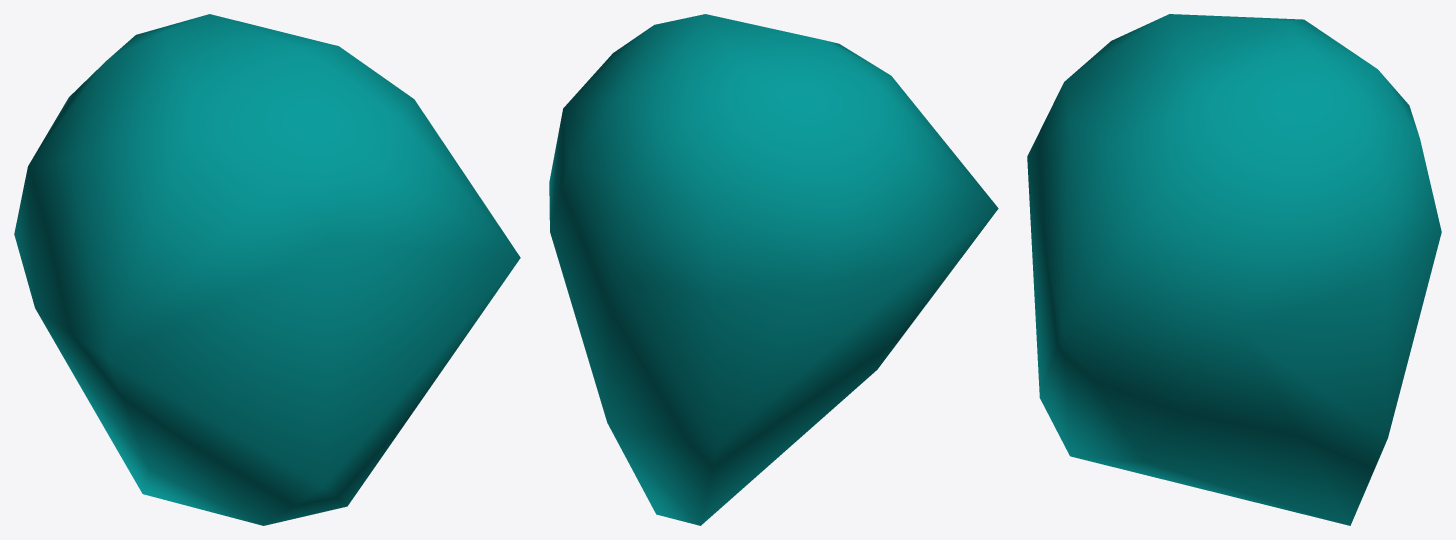
Rendered from 6a13000_halsoben_v13_col.obj.
The picture shows the model from 3 angles, left to right: view 1: azimuth 30°, elevation 25°; view 2: azimuth 150°, elevation 25°; view 3: azimuth 270°, elevation 25°; orthographic projection. The views are drawn at different scales.
Size of the model in its own units: 0.3262 by 0.3679 by 0.2901.
